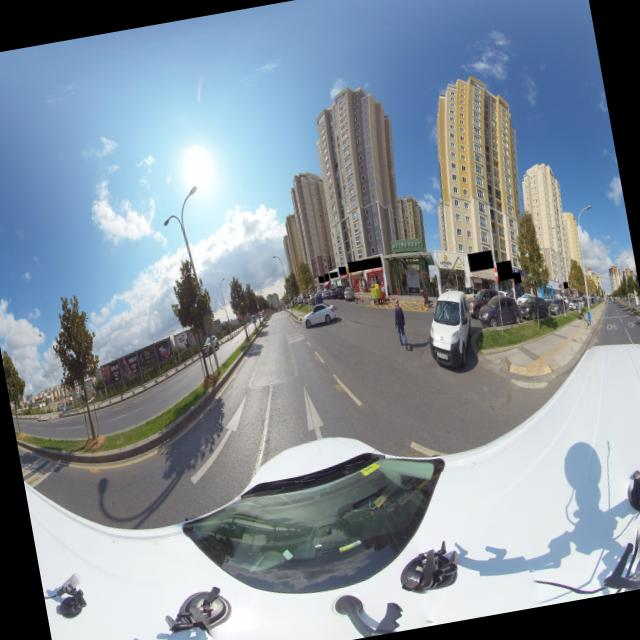SignStore: (437, 251, 464, 270), (348, 258, 382, 272), (467, 254, 493, 268), (496, 263, 513, 278), (513, 272, 521, 283), (338, 266, 346, 275), (329, 271, 337, 278), (324, 273, 330, 281), (318, 275, 324, 283), (563, 282, 568, 288)
